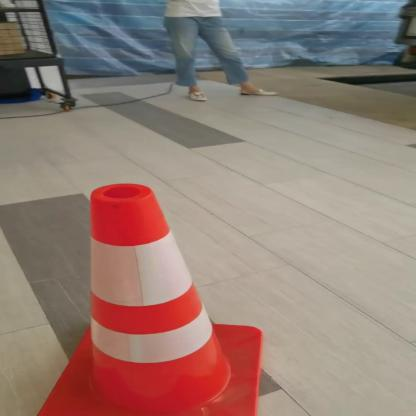cone: (34, 180, 275, 416)
